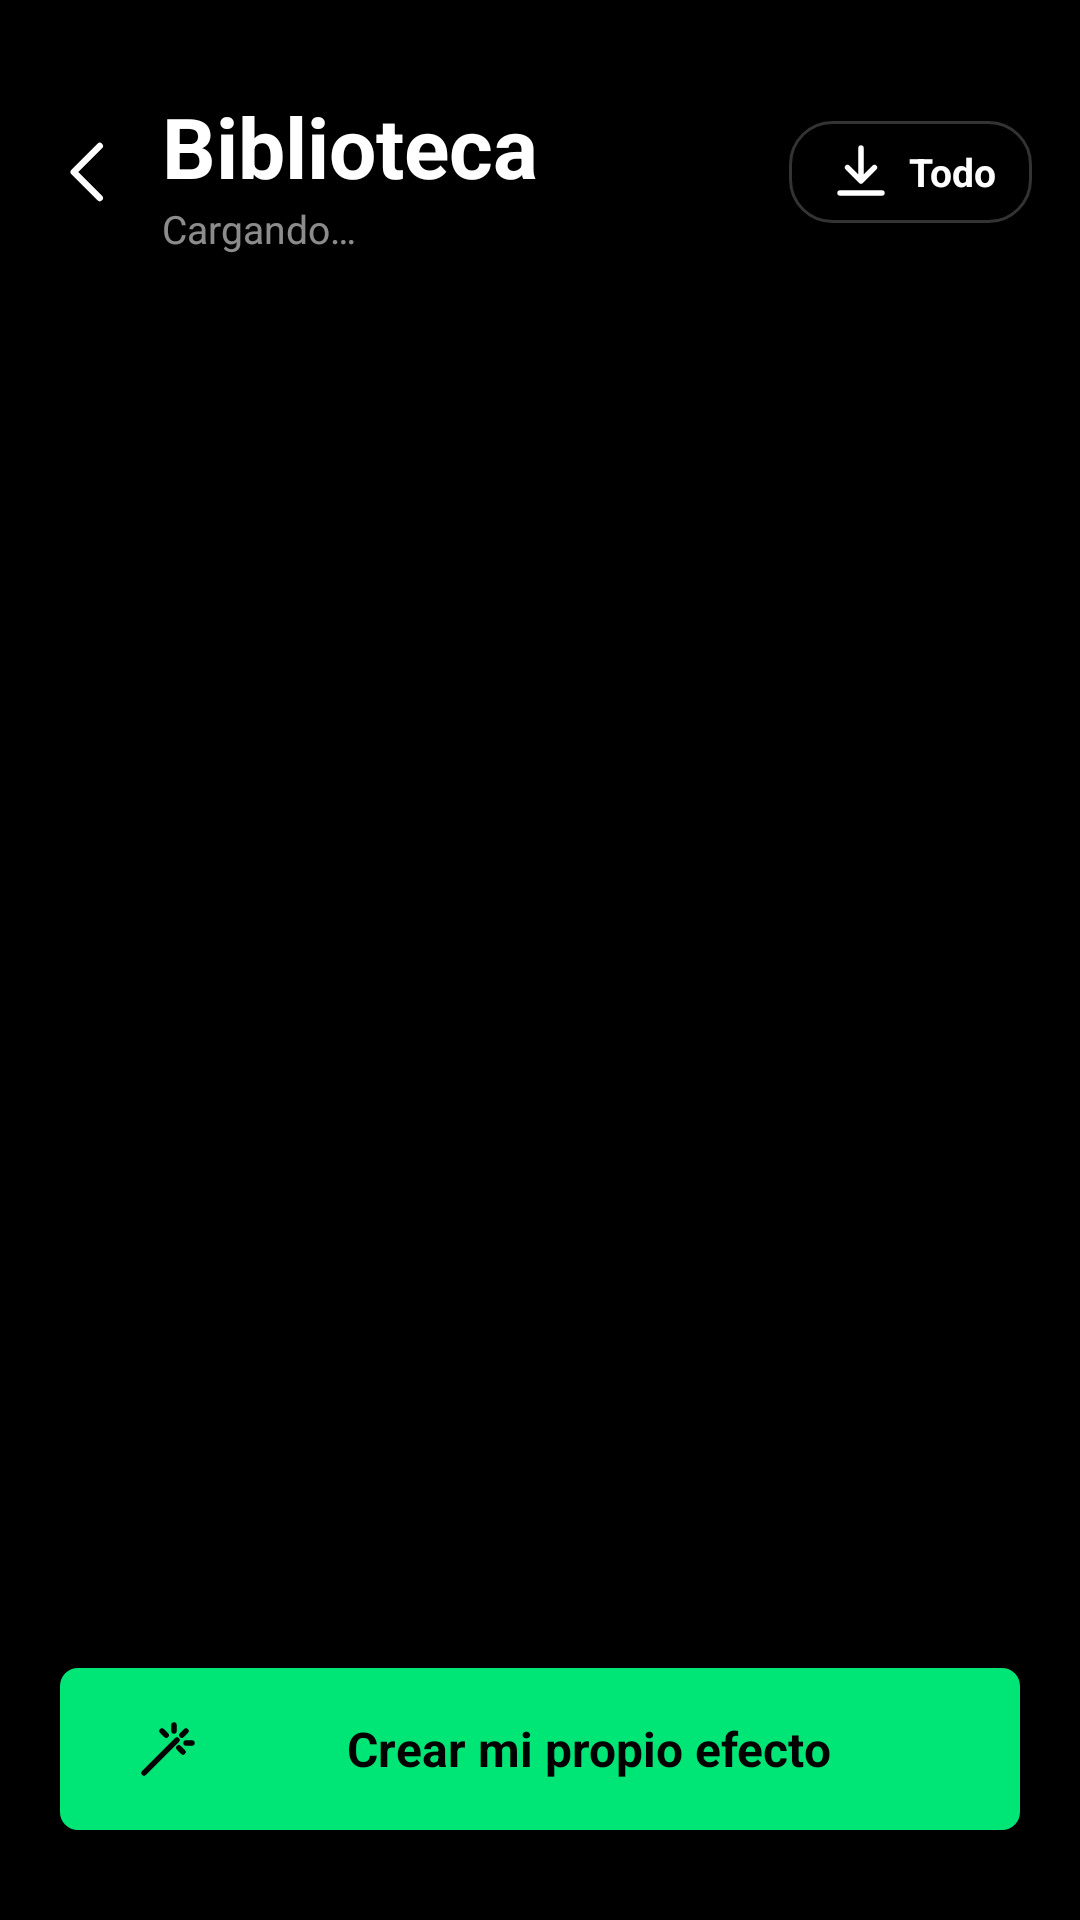

Point at icon controls on the screen. Image size 1080 × 1920, points as [x,y].
Volver: [86,172]
